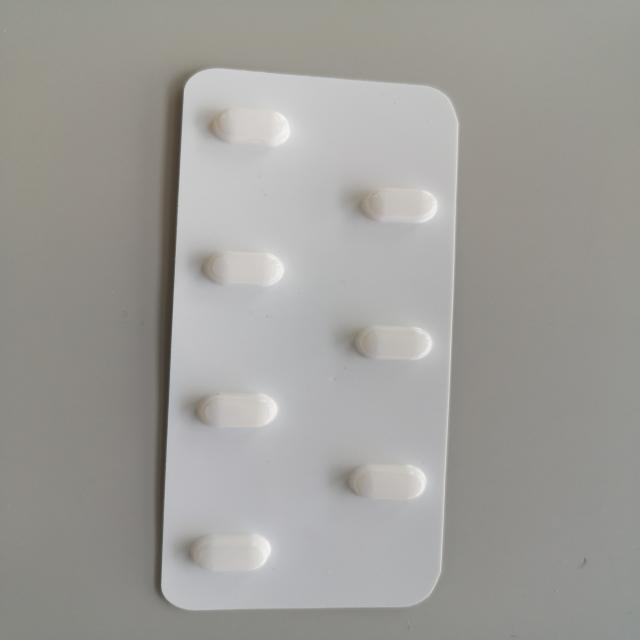Pill: (180, 528, 275, 576), (340, 459, 436, 506), (190, 386, 284, 434), (195, 245, 289, 292), (352, 180, 443, 228), (206, 103, 297, 151), (348, 320, 438, 366)
